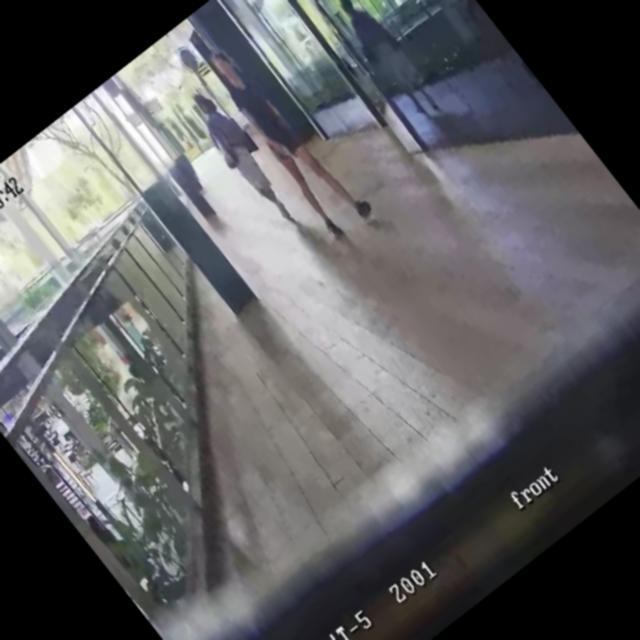person: (197, 33, 377, 243), (180, 82, 308, 232), (325, 0, 441, 118)
